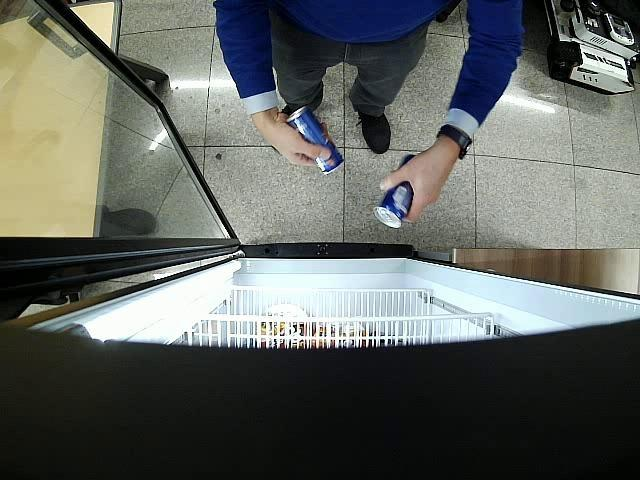16_hot6: (286, 107, 344, 174), (373, 154, 418, 228)
